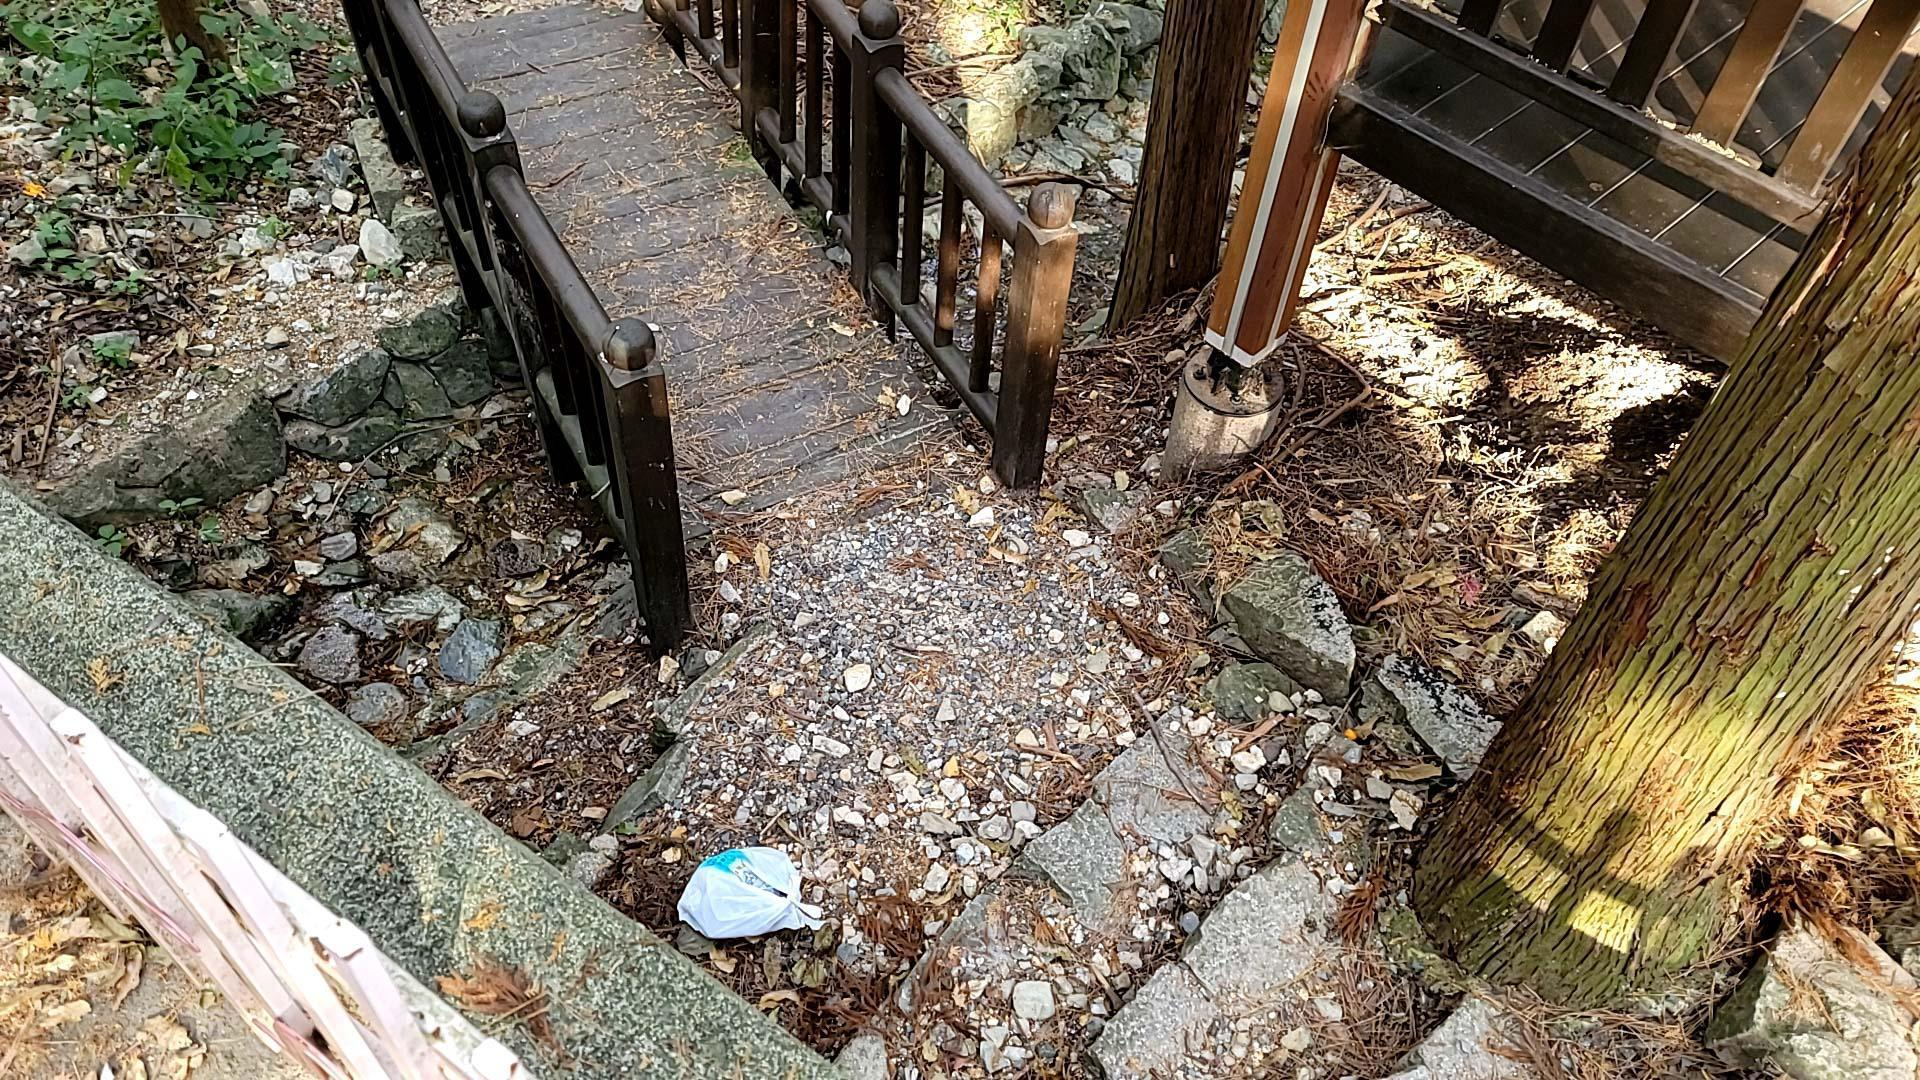white_bag: (669, 836, 827, 947)
